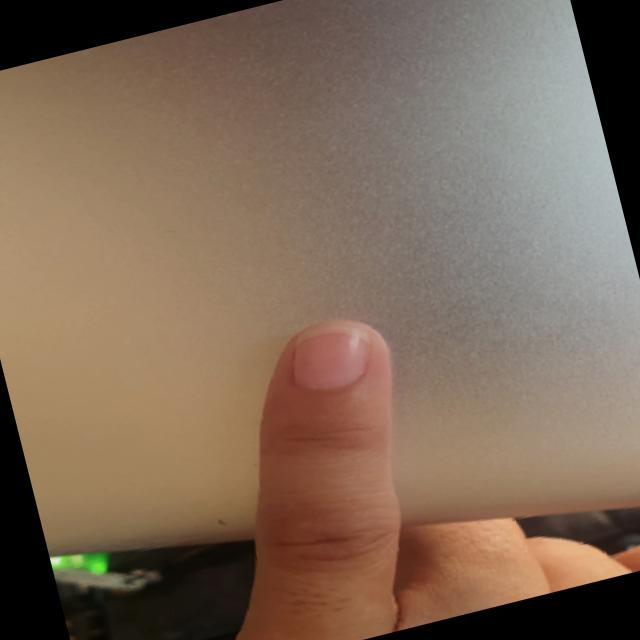Nail: (294, 327, 369, 389)
